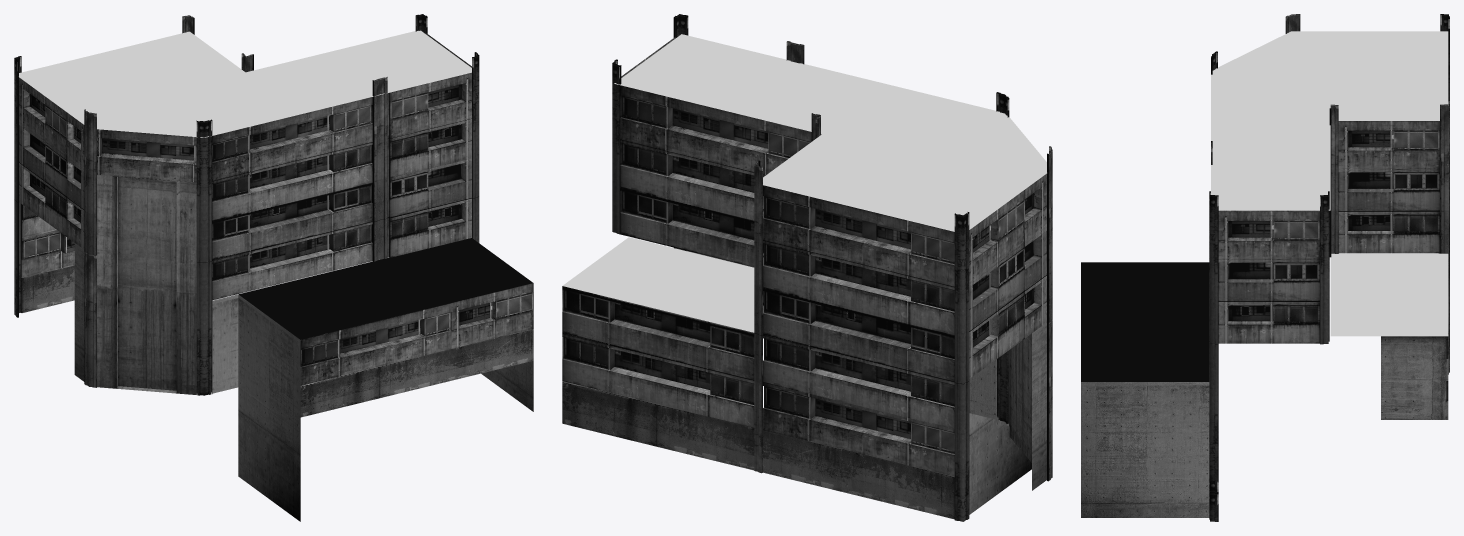
File: skidrow_building_7.fbx
3 renders of one model, left to right at view 1: azimuth 30°, elevation 25°; view 2: azimuth 150°, elevation 25°; view 3: azimuth 270°, elevation 25°, orthographic. The views are drawn at different scales.
Parts seen in each view (by area): view 1: building_6, building_6_concrete, Plane001; view 2: building_6, Plane001, building_6_concrete; view 3: Plane001, building_6_concrete, building_6.
Part boxes in pixels (<box>): building_6: <box>14,14,533,395</box>; building_6_concrete: <box>21,175,533,521</box>; Plane001: <box>19,30,471,137</box>; building_6: <box>562,14,1052,521</box>; Plane001: <box>562,34,1046,332</box>; building_6_concrete: <box>562,251,1046,519</box>; Plane001: <box>1211,31,1448,336</box>; building_6_concrete: <box>1081,210,1448,517</box>; building_6: <box>1209,14,1449,521</box>.
Bounding box in the file's own units: 2522 × 2482 × 2169.
